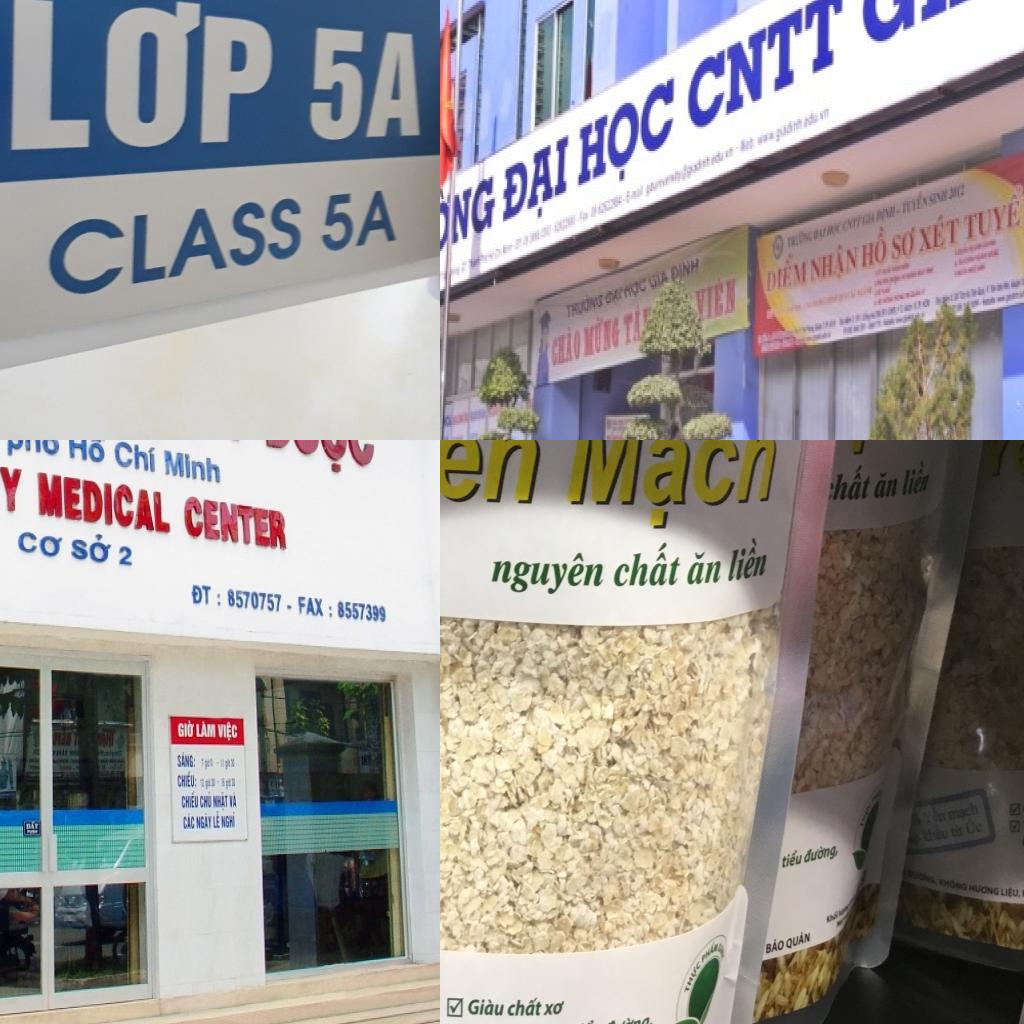text: (0, 0, 279, 159), (39, 194, 313, 312), (685, 0, 847, 141), (559, 440, 786, 533), (300, 20, 430, 150), (574, 65, 679, 203), (858, 0, 1020, 61), (35, 466, 175, 536), (440, 440, 556, 506), (500, 129, 572, 235), (440, 159, 497, 289), (181, 491, 291, 551), (486, 549, 608, 600), (257, 440, 380, 482), (960, 171, 1024, 247), (610, 535, 686, 591), (160, 442, 226, 488), (691, 269, 739, 329), (808, 237, 859, 289), (916, 205, 962, 259), (827, 462, 873, 508), (766, 247, 808, 297), (112, 440, 163, 481), (583, 309, 622, 359), (682, 547, 724, 589), (859, 219, 890, 273), (70, 531, 114, 569), (225, 586, 284, 614), (334, 599, 390, 627), (551, 321, 582, 371), (17, 527, 65, 559), (898, 455, 931, 498), (2, 440, 65, 462), (564, 289, 606, 321), (64, 440, 110, 469), (890, 223, 918, 265), (870, 466, 902, 502), (667, 253, 702, 285), (623, 301, 644, 351), (803, 840, 841, 865), (468, 992, 506, 1017), (297, 593, 327, 623), (506, 995, 544, 1018), (623, 275, 651, 305), (602, 1009, 655, 1024), (681, 958, 702, 994), (784, 927, 812, 952), (646, 267, 672, 293), (188, 582, 213, 608), (603, 281, 624, 307), (115, 543, 136, 569), (700, 938, 718, 966), (217, 721, 239, 743), (781, 847, 803, 869), (542, 998, 566, 1018), (177, 768, 198, 790), (195, 719, 217, 739), (176, 750, 197, 770), (180, 790, 200, 811), (764, 935, 784, 955), (212, 791, 230, 813), (176, 719, 195, 739), (195, 812, 214, 832), (198, 790, 214, 810), (182, 812, 196, 832), (571, 1015, 602, 1024), (228, 790, 239, 810), (212, 809, 222, 830), (24, 820, 40, 831)
